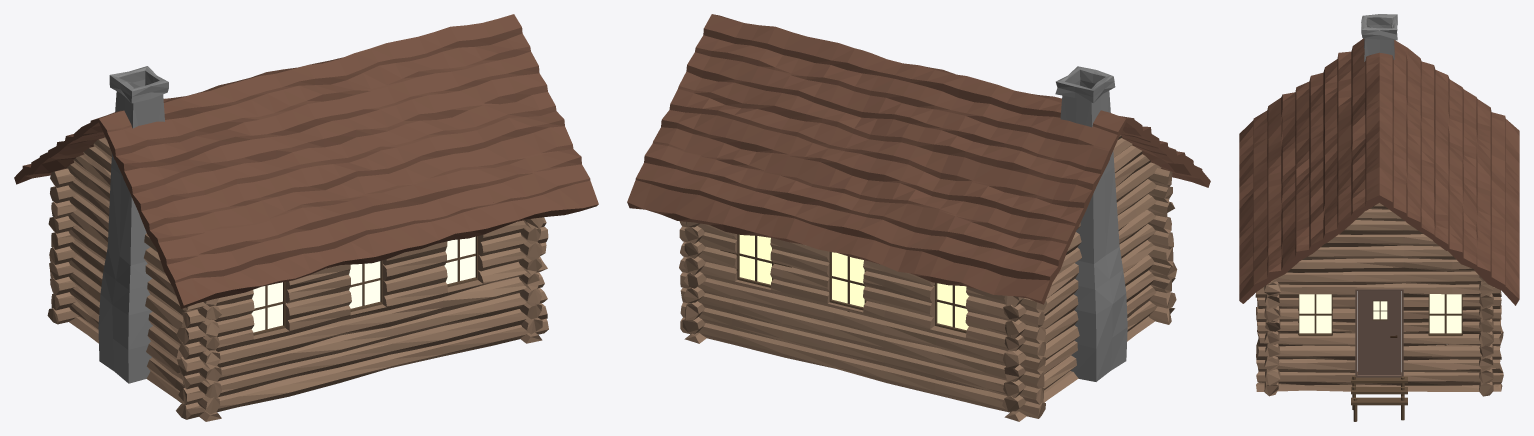
The model's file is Cabine.fbx.
3 views of the same model, side by side, from view 1: azimuth 30°, elevation 25°; view 2: azimuth 150°, elevation 25°; view 3: azimuth 270°, elevation 25° (orthographic). The views are drawn at different scales.
Parts seen in each view (by area): view 1: Cabine; view 2: Cabine; view 3: Cabine.
Part boxes in pixels (box(x1,y1,x2,y2)): Cabine: box(14, 14, 598, 421); Cabine: box(627, 14, 1210, 421); Cabine: box(1239, 14, 1519, 421).
Bounding box in the file's own units: 814 × 586 × 577.
